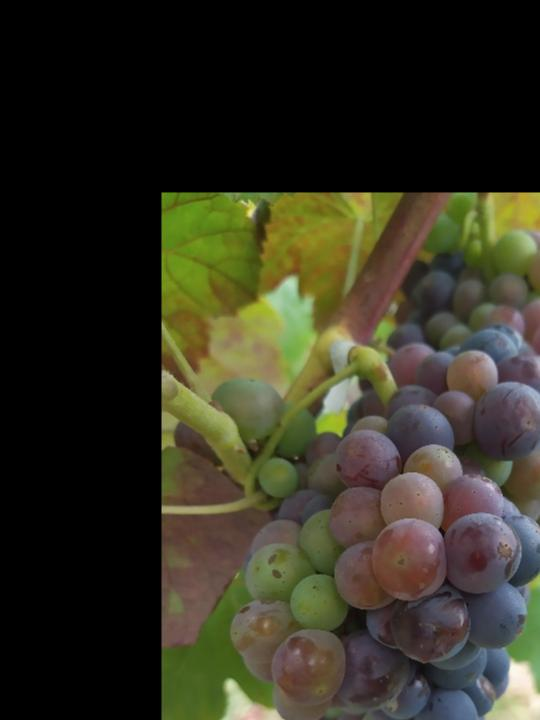grape: (226, 326, 540, 720)
